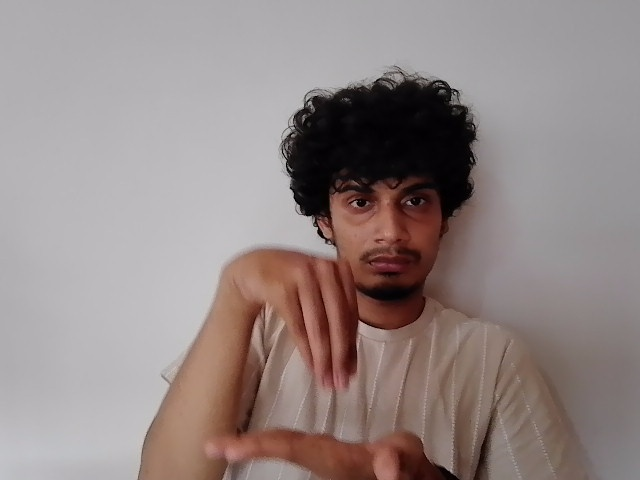learn: (222, 252, 422, 480)
